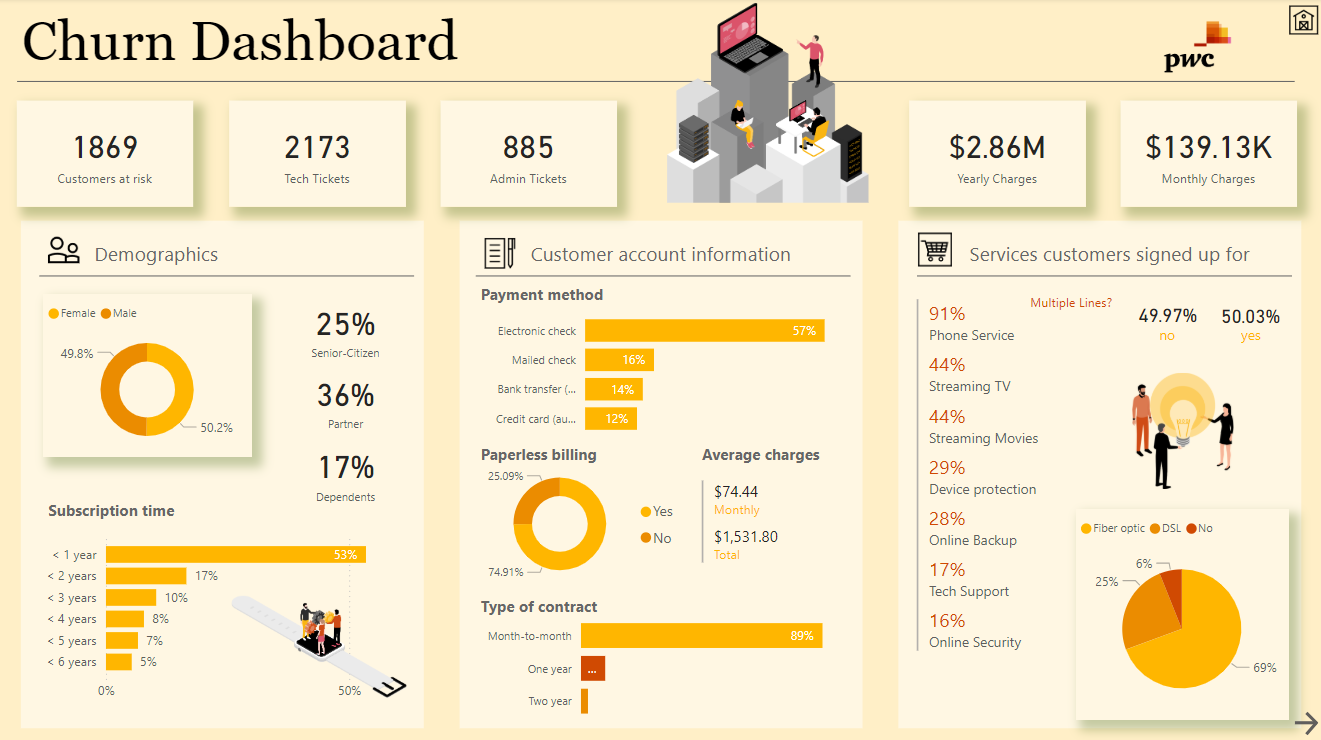

The page's visual inventory and layout, read from the dashboard file:
{"tool":"powerbi","page":{"name":"Churn","canvas":[1280,720],"ordinal":1},"visuals":[{"type":"textbox","box":[17.8,5.5,1243.2,74.1],"z":0},{"type":"basicShape","box":[8.7,60.7,1253,40.5],"z":1000},{"type":"basicShape","box":[18.3,210,396.8,499.9],"z":2000},{"type":"card","fields":{"Values":["CountNonNull(churn.customerID)"]},"box":[18.5,99.4,170,102.3],"z":3000},{"type":"basicShape","box":[441.6,210,396.8,499.9],"z":4000},{"type":"basicShape","box":[864.9,210,396.8,499.9],"z":5000},{"type":"textbox","box":[508.5,228.6,314.9,35.6],"z":6000},{"type":"basicShape","box":[450.7,248.9,381.4,39.5],"z":7000},{"type":"image","box":[461.3,226.3,47.2,39.5],"z":8000},{"type":"textbox","box":[932.7,228.6,314.9,35.6],"z":9000},{"type":"basicShape","box":[877.4,248.9,381.4,39.5],"z":10000},{"type":"textbox","box":[88,228.6,314.9,35.6],"z":11000},{"type":"basicShape","box":[30.2,248.9,381.4,39.5],"z":12000},{"type":"image","box":[883.2,220.6,42.4,43.3],"z":13000},{"type":"image","box":[43.3,220.6,40.5,44.3],"z":14000},{"type":"donutChart","fields":{"Category":["churn.gender"],"Y":["CountNonNull(churn.gender)"]},"box":[43.8,286,201.3,156.6],"z":15000},{"type":"card","fields":{"Values":["churn.SeniorCitizen in %"]},"box":[271.4,268.7,128.1,100.2],"z":16000},{"type":"card","fields":{"Values":["churn.Partner in %"]},"box":[271.4,338.1,128.4,100.2],"z":17000},{"type":"card","fields":{"Values":["churn.Dependents in %"]},"box":[271.4,407.5,128.4,100.2],"z":18000},{"type":"clusteredBarChart","fields":{"Category":["churn.Contract"],"Y":["CountNonNull(churn.Contract)"]},"box":[461.3,577.9,370.8,131.9],"z":19000},{"type":"clusteredBarChart","fields":{"Y":["CountNonNull(churn.PaymentMethod)"],"Category":["churn.PaymentMethod"]},"box":[461.3,286,370.8,148.3],"z":20000},{"type":"textbox","box":[461.3,269.7,314.9,35.6],"z":21000},{"type":"textbox","box":[461.3,424.7,204.2,35.6],"z":22000},{"type":"donutChart","fields":{"Category":["churn.PaperlessBilling"],"Y":["CountNonNull(churn.PaperlessBilling)"]},"box":[461.3,438.2,204.2,139.7],"z":23000},{"type":"multiRowCard","fields":{"Values":["Avg(churn.MonthlyCharges)","Avg(churn.TotalCharges)"]},"box":[674.2,460.4,149.3,95.3],"z":24000},{"type":"textbox","box":[461.3,572.1,314.9,35.6],"z":25000},{"type":"pieChart","fields":{"Category":["churn.InternetService"],"Y":["Divide(CountNonNull(churn.InternetService), ScopedEval(CountNonNull(churn.InternetService), []))"]},"box":[1040.4,492.9,205.5,203.6],"z":26000},{"type":"card","fields":{"Values":["churn.Multiple Lines in %"]},"box":[1172.8,276.4,72.2,62.6],"z":27000},{"type":"card","fields":{"Values":["churn.Multiple lines no in %"]},"box":[1093.1,276.4,72.2,61.6],"z":28000},{"type":"textbox","box":[971.7,278.2,129.4,27.2],"z":29000},{"type":"textbox","box":[1092.2,311,73.2,35.6],"z":30000},{"type":"textbox","box":[1172.8,311,73.2,35.6],"z":31000},{"type":"textbox","box":[674.2,424.7,148.3,35.6],"z":32000},{"type":"multiRowCard","fields":{"Values":["churn.Phone Service in %","churn.Streaming TV in %","churn.Streaming Movies in %","churn.Device protection in %","churn.Online Bacup in %","churn.Tech Support in %","churn.Online Sec. in %"]},"box":[882.2,286,165.3,414.3],"z":33000},{"type":"clusteredBarChart","fields":{"Y":["CountNonNull(churn.Churn)"],"Category":["churn.Loyalty"]},"box":[37,507.7,365.7,179],"z":36000},{"type":"textbox","box":[43.8,478.5,314.2,35],"z":37000},{"type":"image","box":[1048.2,356.5,190.9,121.8],"z":38000},{"type":"actionButton","box":[1246.1,680.1,31.6,39.5],"z":39000},{"type":"card","fields":{"Values":["Sum(churn.MonthlyCharges)"]},"box":[1083.9,99.4,170,102.3],"z":41000},{"type":"image","box":[634.9,0,216.9,202.2],"z":42000},{"type":"image","box":[221.1,556.2,178.3,139.3],"z":43000},{"type":"card","fields":{"Values":["Sum(churn.numTechTickets)"]},"box":[222.8,99.4,170,102.3],"z":44000},{"type":"card","fields":{"Values":["Sum(churn.numAdminTickets)"]},"box":[427.1,99.4,170,102.3],"z":45000},{"type":"card","fields":{"Values":["Sum(churn.TotalCharges)"]},"box":[879.7,99.4,170,102.3],"z":46000},{"type":"image","box":[1242,0,38,42.9],"z":49000},{"type":"image","box":[1082.7,0,150.9,94.7],"z":50000}]}

Visuals, with their boxes in screenshot pixels (x1, y1, x2, y2), scaled from the page's 1280x720 canvas onto the 1321x740 screenshot:
textbox: Rect(18, 6, 1301, 82)
basicShape: Rect(9, 62, 1302, 104)
basicShape: Rect(19, 216, 428, 730)
card - CountNonNull(churn.customerID): Rect(19, 102, 195, 207)
basicShape: Rect(456, 216, 865, 730)
basicShape: Rect(893, 216, 1302, 730)
textbox: Rect(525, 235, 850, 272)
basicShape: Rect(465, 256, 859, 296)
image: Rect(476, 233, 525, 273)
textbox: Rect(963, 235, 1288, 272)
basicShape: Rect(906, 256, 1299, 296)
textbox: Rect(91, 235, 416, 272)
basicShape: Rect(31, 256, 425, 296)
image: Rect(911, 227, 955, 271)
image: Rect(45, 227, 86, 272)
donutChart - churn.gender x CountNonNull(churn.gender): Rect(45, 294, 253, 455)
card - churn.SeniorCitizen in %: Rect(280, 276, 412, 379)
card - churn.Partner in %: Rect(280, 347, 413, 450)
card - churn.Dependents in %: Rect(280, 419, 413, 522)
clusteredBarChart - churn.Contract x CountNonNull(churn.Contract): Rect(476, 594, 859, 730)
clusteredBarChart - CountNonNull(churn.PaymentMethod) x churn.PaymentMethod: Rect(476, 294, 859, 446)
textbox: Rect(476, 277, 801, 314)
textbox: Rect(476, 436, 687, 473)
donutChart - churn.PaperlessBilling x CountNonNull(churn.PaperlessBilling): Rect(476, 450, 687, 594)
multiRowCard - Avg(churn.MonthlyCharges) x Avg(churn.TotalCharges): Rect(696, 473, 850, 571)
textbox: Rect(476, 588, 801, 625)
pieChart - churn.InternetService x Divide(CountNonNull(churn.InternetService), ScopedEval(CountNonNull(churn.InternetService), [])): Rect(1074, 507, 1286, 716)
card - churn.Multiple Lines in %: Rect(1210, 284, 1285, 348)
card - churn.Multiple lines no in %: Rect(1128, 284, 1203, 347)
textbox: Rect(1003, 286, 1136, 314)
textbox: Rect(1127, 320, 1203, 356)
textbox: Rect(1210, 320, 1286, 356)
textbox: Rect(696, 436, 849, 473)
multiRowCard - churn.Phone Service in % x churn.Streaming TV in %: Rect(910, 294, 1081, 720)
clusteredBarChart - CountNonNull(churn.Churn) x churn.Loyalty: Rect(38, 522, 416, 706)
textbox: Rect(45, 492, 369, 528)
image: Rect(1082, 366, 1279, 492)
actionButton: Rect(1286, 699, 1319, 739)
card - Sum(churn.MonthlyCharges): Rect(1119, 102, 1294, 207)
image: Rect(655, 0, 879, 208)
image: Rect(228, 572, 412, 715)
card - Sum(churn.numTechTickets): Rect(230, 102, 405, 207)
card - Sum(churn.numAdminTickets): Rect(441, 102, 616, 207)
card - Sum(churn.TotalCharges): Rect(908, 102, 1083, 207)
image: Rect(1282, 0, 1320, 44)
image: Rect(1117, 0, 1273, 97)
